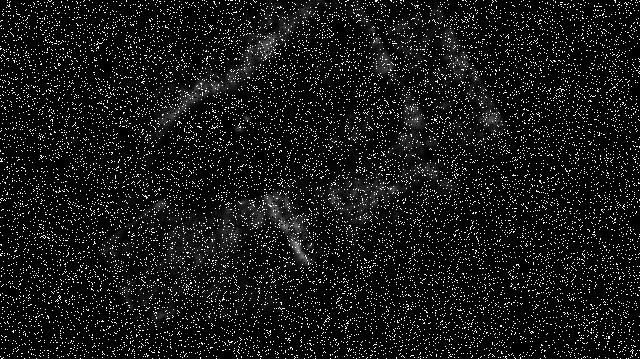pot: (206, 81, 325, 196)
